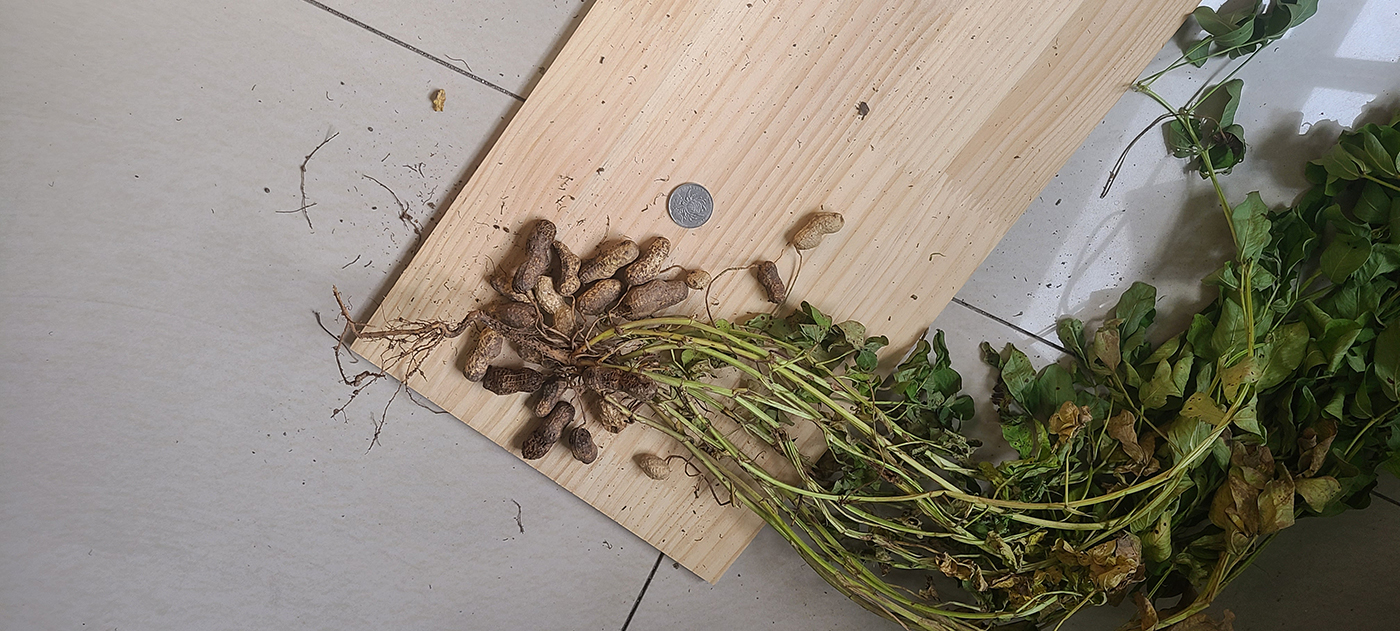h: (578, 240, 639, 283), (536, 277, 577, 335), (621, 280, 688, 315), (465, 326, 502, 382), (627, 237, 670, 285), (793, 213, 847, 250), (552, 241, 582, 295), (577, 281, 621, 315), (535, 377, 569, 418), (491, 273, 533, 305), (599, 397, 628, 434), (639, 453, 670, 481), (685, 269, 712, 291)
l: (513, 219, 556, 294), (523, 403, 572, 460), (485, 365, 546, 396), (755, 262, 788, 306), (498, 304, 541, 330), (570, 429, 598, 466)
